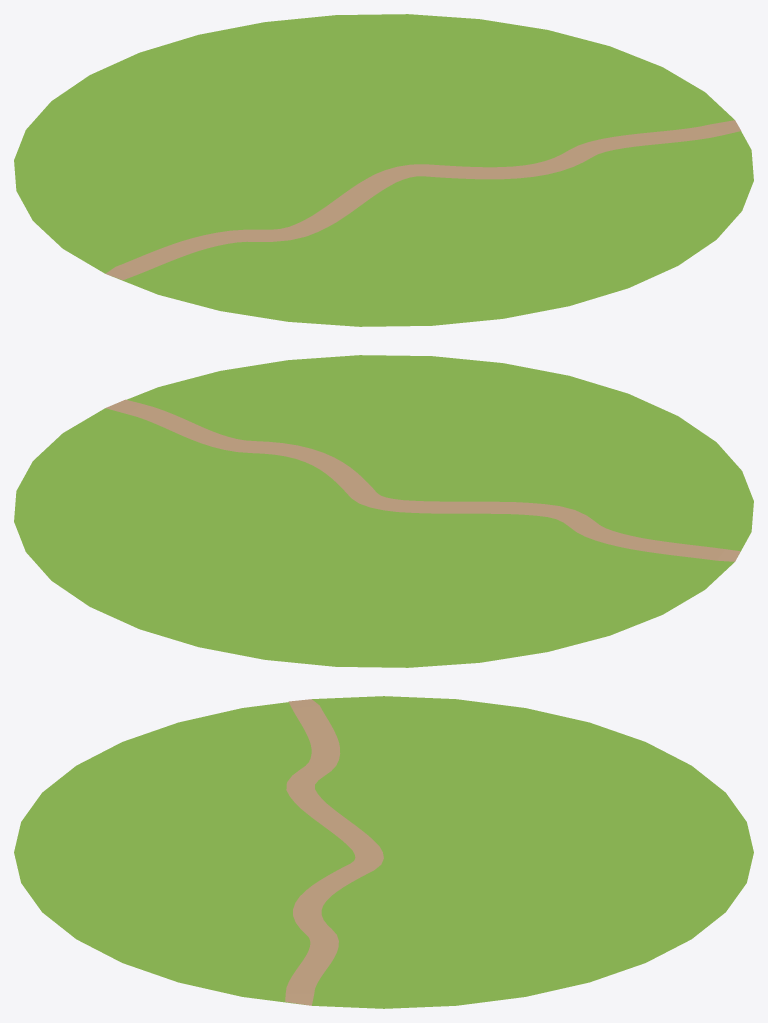
Rendered from trava i doroga.fbx.
3 views of the same model, one above another, from view 1: azimuth 30°, elevation 25°; view 2: azimuth 150°, elevation 25°; view 3: azimuth 270°, elevation 25° (orthographic).
Visible parts, largest first — view 1: trava i doroga; view 2: trava i doroga; view 3: trava i doroga.
Part boxes in pixels (x1,y1,x2,y2): trava i doroga: (14, 14, 753, 326); trava i doroga: (14, 355, 753, 667); trava i doroga: (14, 696, 753, 1008).
Size of the model in its own units: 29.46 by 0.0251 by 29.46.
